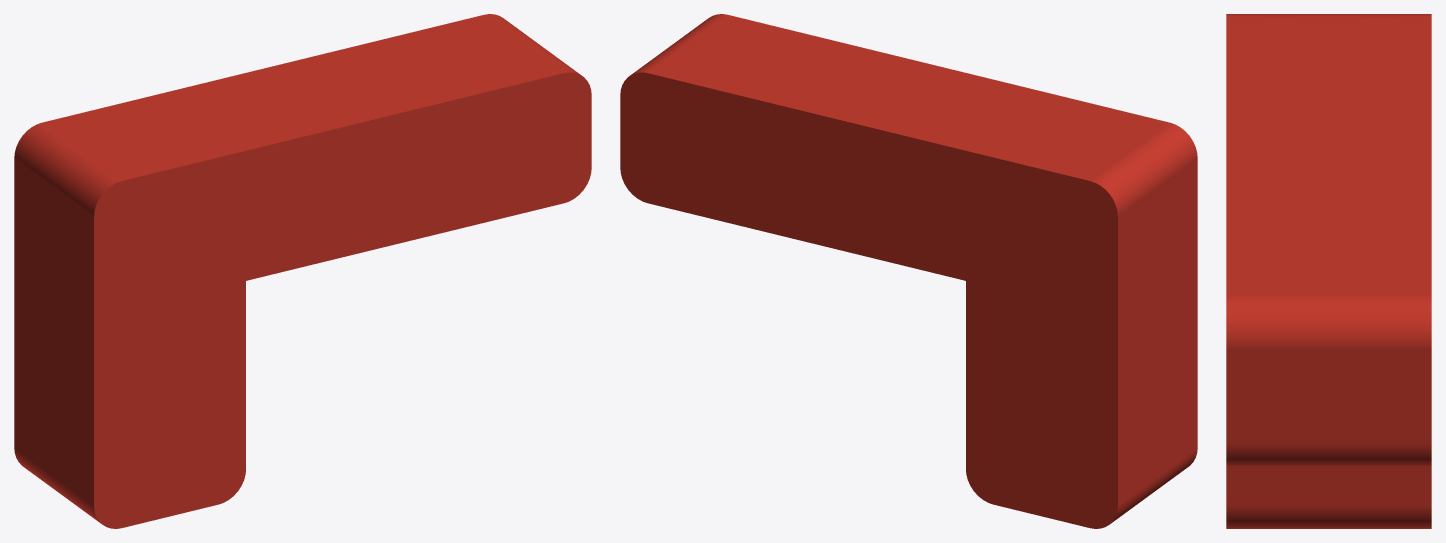
Rendered from BarCounter.fbx.
3 renders of one model, left to right at view 1: azimuth 30°, elevation 25°; view 2: azimuth 150°, elevation 25°; view 3: azimuth 270°, elevation 25°, orthographic. The views are drawn at different scales.
Visible parts, largest first — view 1: Body1; view 2: Body1; view 3: Body1.
Boxes of the visible parts, x1,y1,x2,y2 form: Body1: (14, 14, 591, 528); Body1: (620, 14, 1197, 528); Body1: (1226, 14, 1431, 528).
Size of the model in its own units: 3.6 by 2.4 by 1.
